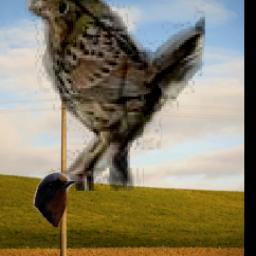Sparrow: (25, 0, 206, 191)
Swallow: (33, 171, 75, 228)
